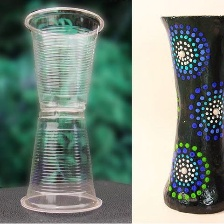glass: (14, 104, 117, 214), (21, 5, 107, 113)
